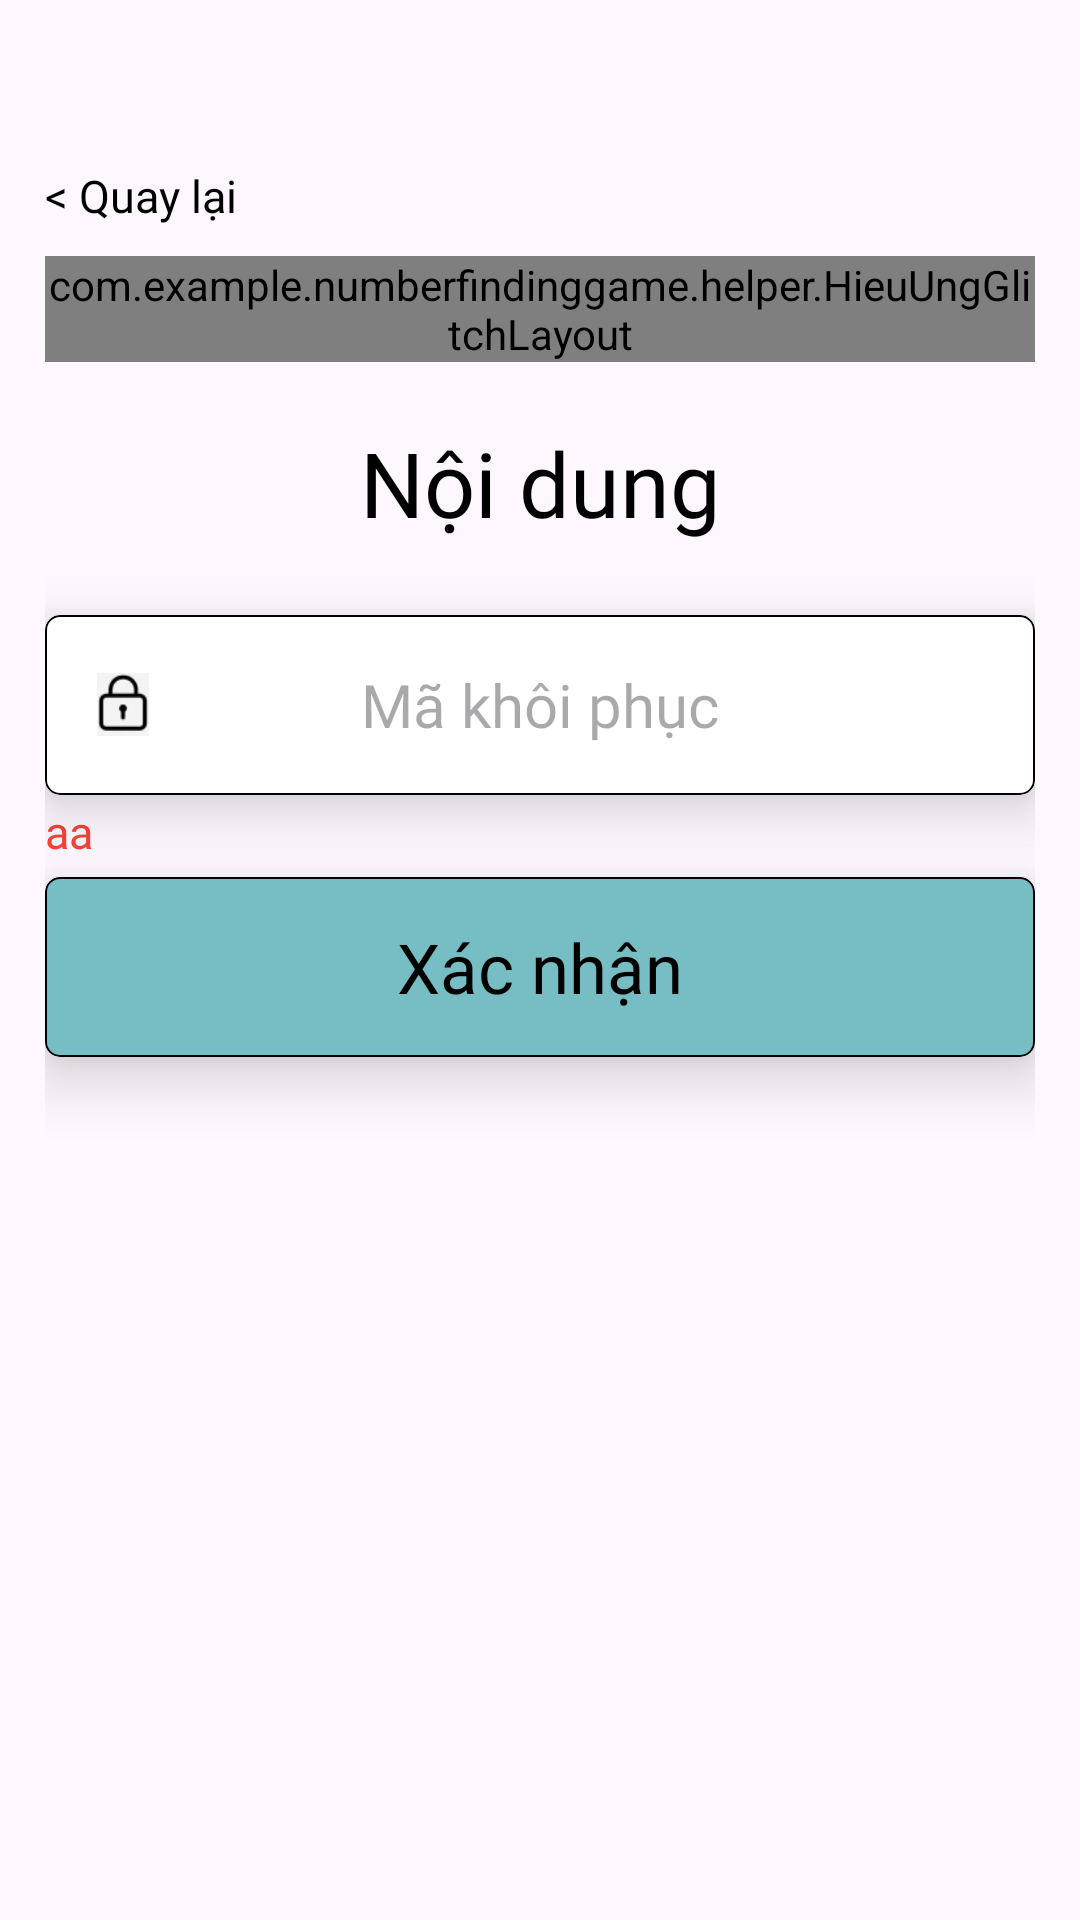

Named icons in this screenshot (1080w x 1920h) and their centers, point (x, y):
pass: point (123, 704)
